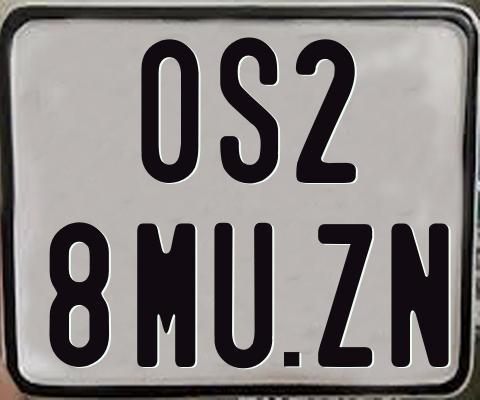0: (139, 36, 199, 185)
2: (293, 37, 354, 181)
8: (49, 221, 111, 371)
M: (137, 220, 197, 368)
N: (389, 222, 452, 368)
S: (218, 34, 280, 184)
U: (214, 221, 274, 366)
Z: (315, 221, 371, 365)
